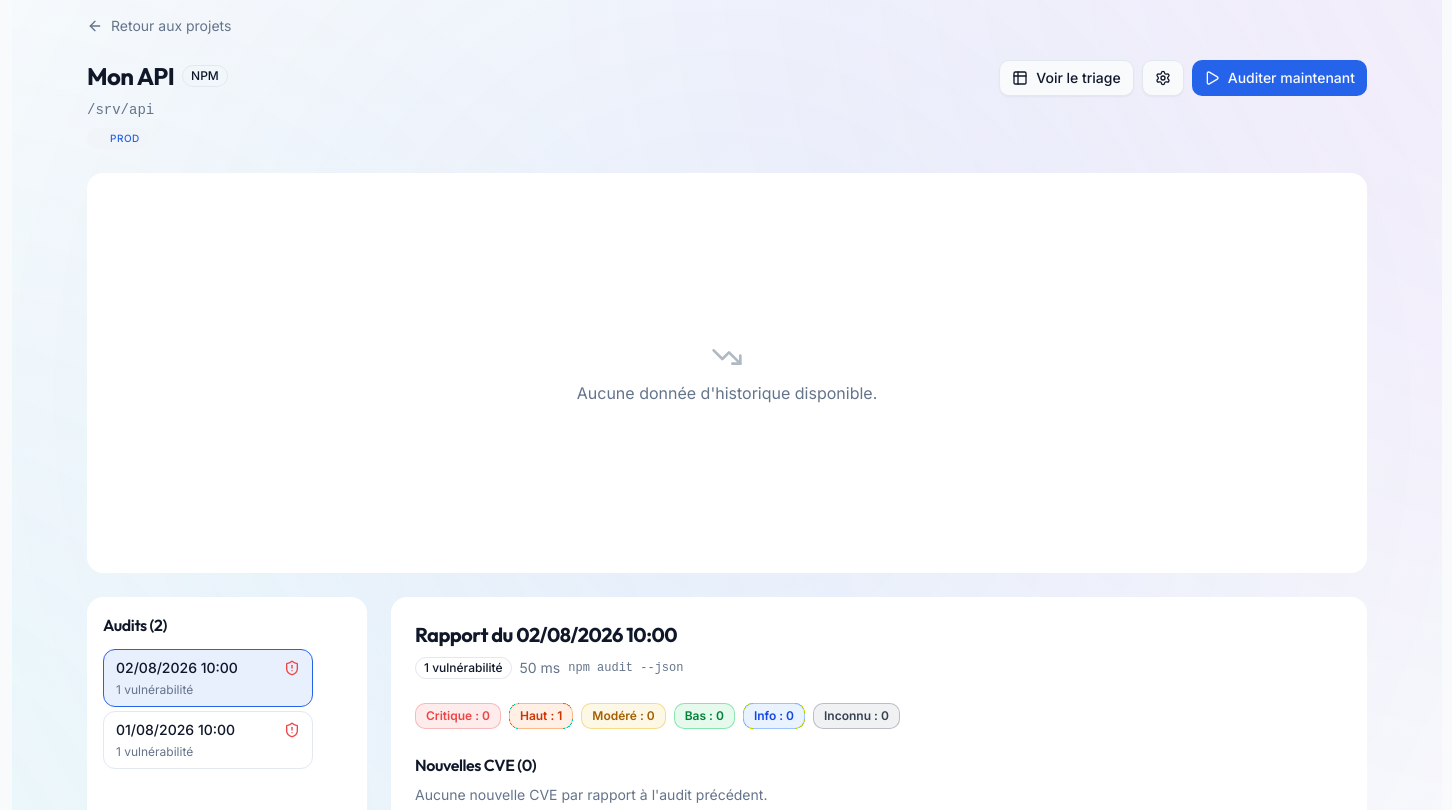
ProjectDetail › « Auditer maintenant » force l'audit, recharge et sélectionne le nouveau run
The image size is (1452, 810).
Expected: the heading "Mon API" is shown, [87,60,174,92]
Click the button "Auditer maintenant": (1279, 78) [1192,60,1367,96]
(page scrolled)
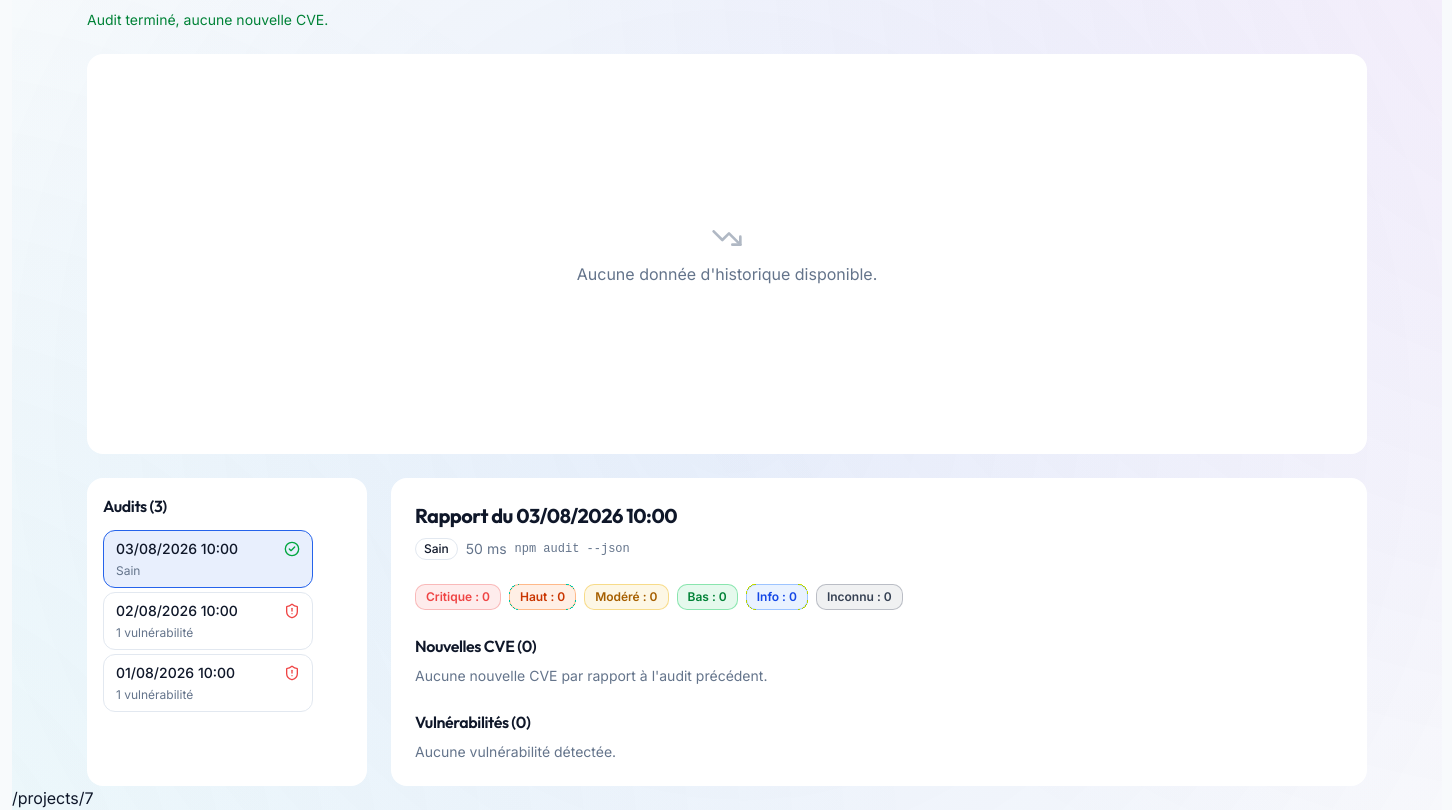
Now the text "Audit terminé, aucune nouvelle CVE." is shown, box [87,11,328,28]
Now the heading "Audits (3)" is shown, box [103,496,167,516]
Now the element named "Rapport d'audit" shows "Aucune vulnérabilité détectée.", box [415,743,616,760]
